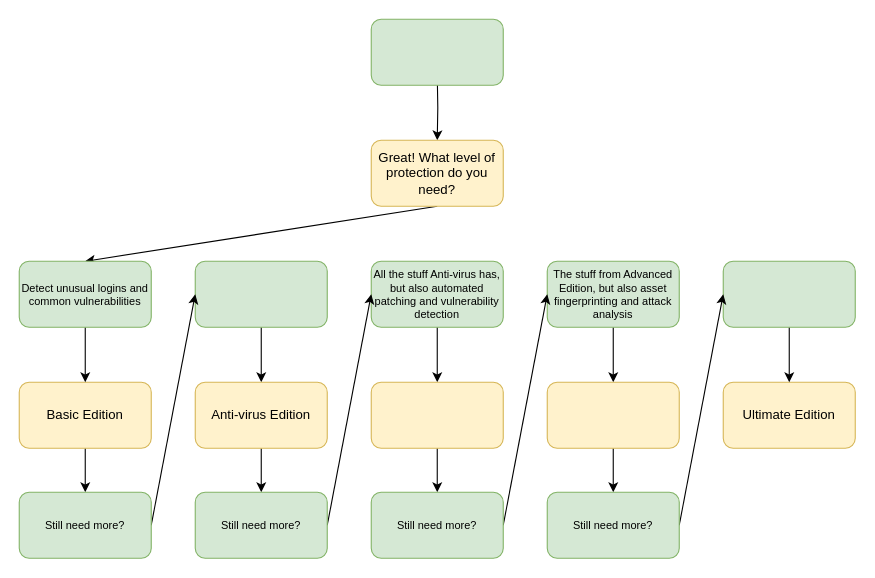
The diagram is 875 pixels wide and 578 high, and some of its shapes have lost their labels. The centre of each missing label's shape, as x and y in pixels:
Advanced Edition: point (436, 414)
Basic Edition, but I also need anti-virus: point (260, 293)
Enterprise Edition: point (612, 414)
I need to secure my cloud infrastructure: point (436, 51)
The stuff from Enterprise Edition, but with Docker and K8s security tools: point (788, 293)
